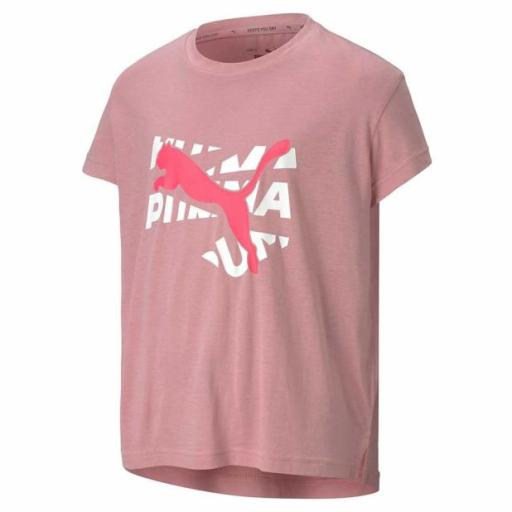Puma: (150, 136, 296, 280)
